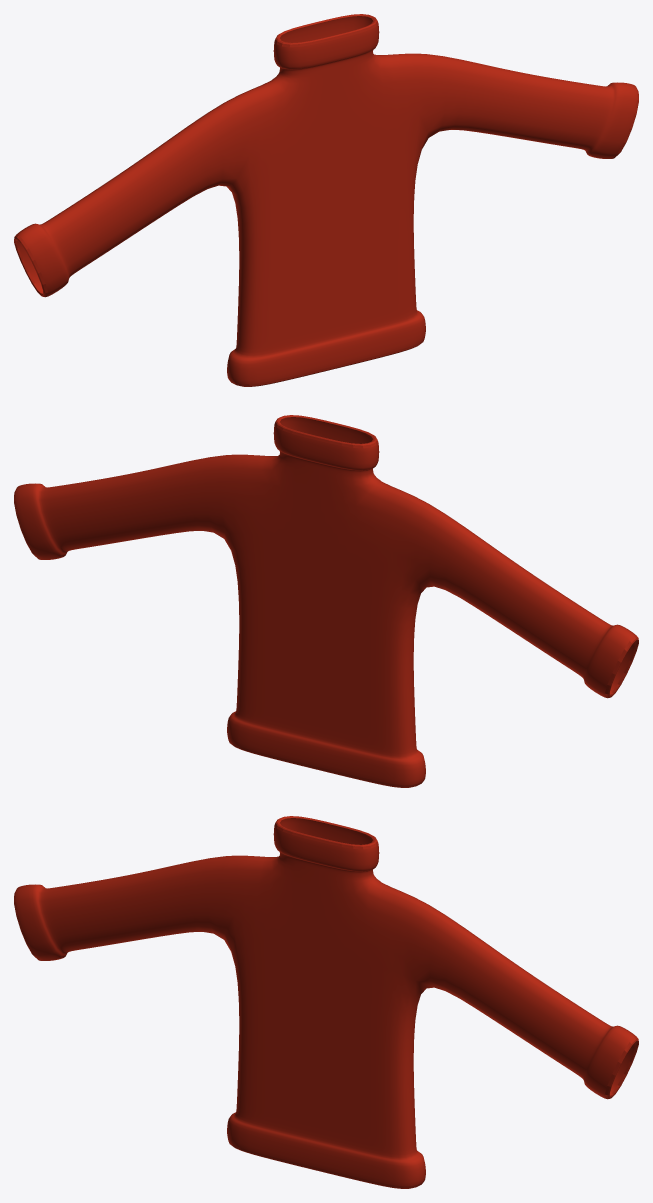
Rendered from turtleneck.fbx.
3 renders of one model, top to bottom at view 1: azimuth 30°, elevation 25°; view 2: azimuth 150°, elevation 25°; view 3: azimuth 330°, elevation 25°, orthographic.
Parts seen in each view (by area): view 1: Turtleneck; view 2: Turtleneck; view 3: Turtleneck.
Part boxes in pixels (box(x1,y1,x2,y2)): Turtleneck: box(14, 14, 638, 386); Turtleneck: box(14, 415, 638, 787); Turtleneck: box(14, 816, 638, 1188).
Size of the model in its own units: 25.11 by 442 by 227.
